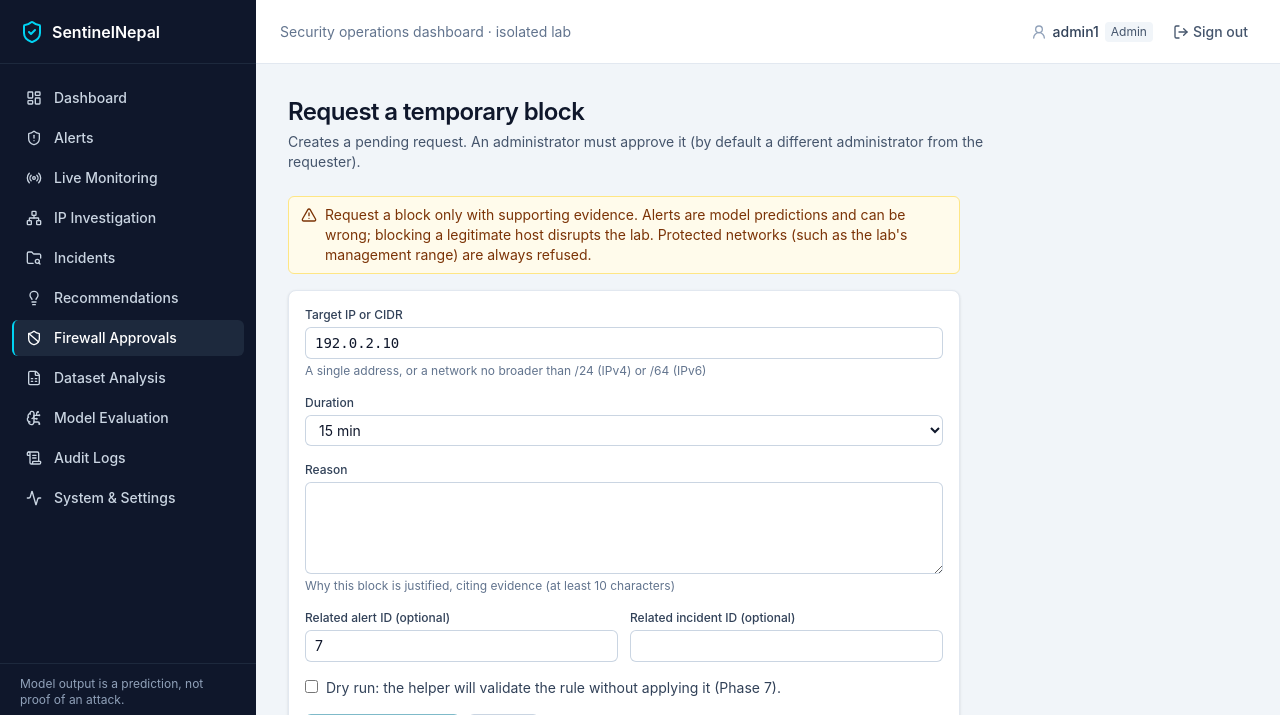
Scenario: Firewall approvals › creates a request prefilled from an alert
Expected: the field labelled "Target IP or CIDR" holds "192.0.2.10", [305,327,943,359]
Type "Repeated exploit attempts seen in host logs" into the text box labelled "Reason" at (624, 528), box [305,482,943,574]
(page scrolled)
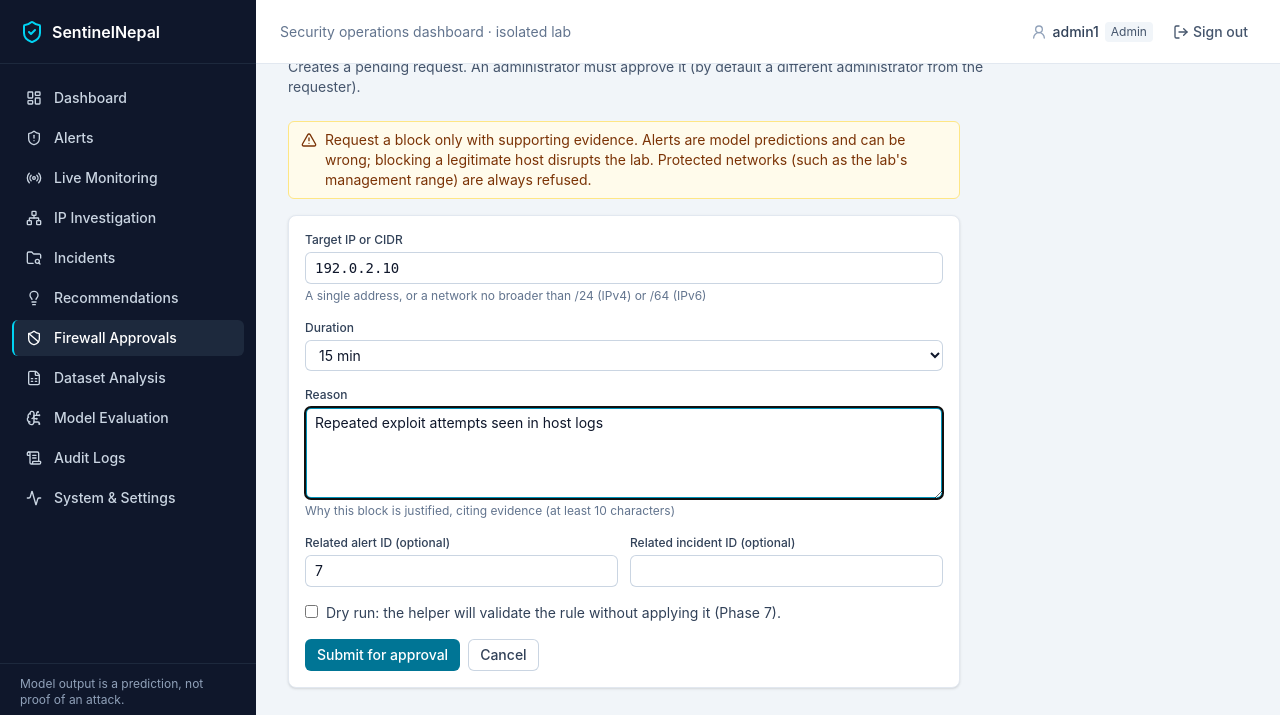
Click the button "Submit for approval" at (383, 655), box [305,639,460,671]
(page scrolled)
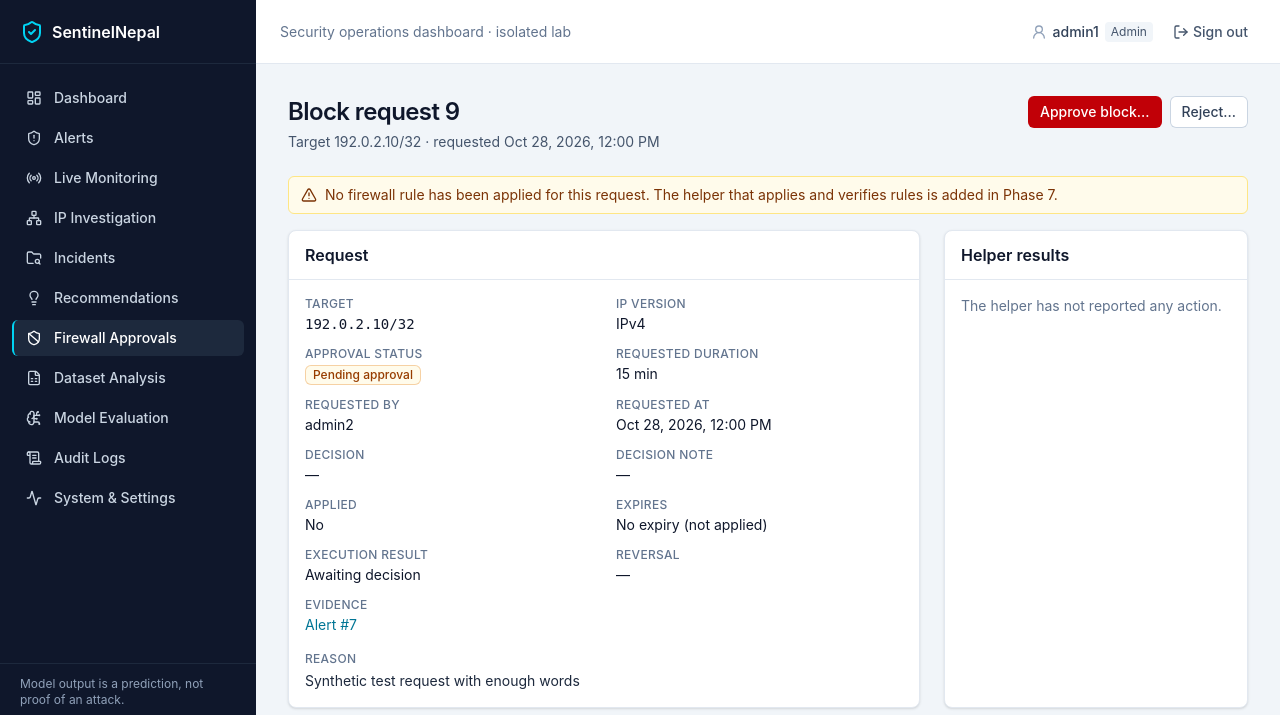
Expected: the heading "Block request 9" is shown, [288,97,460,126]
